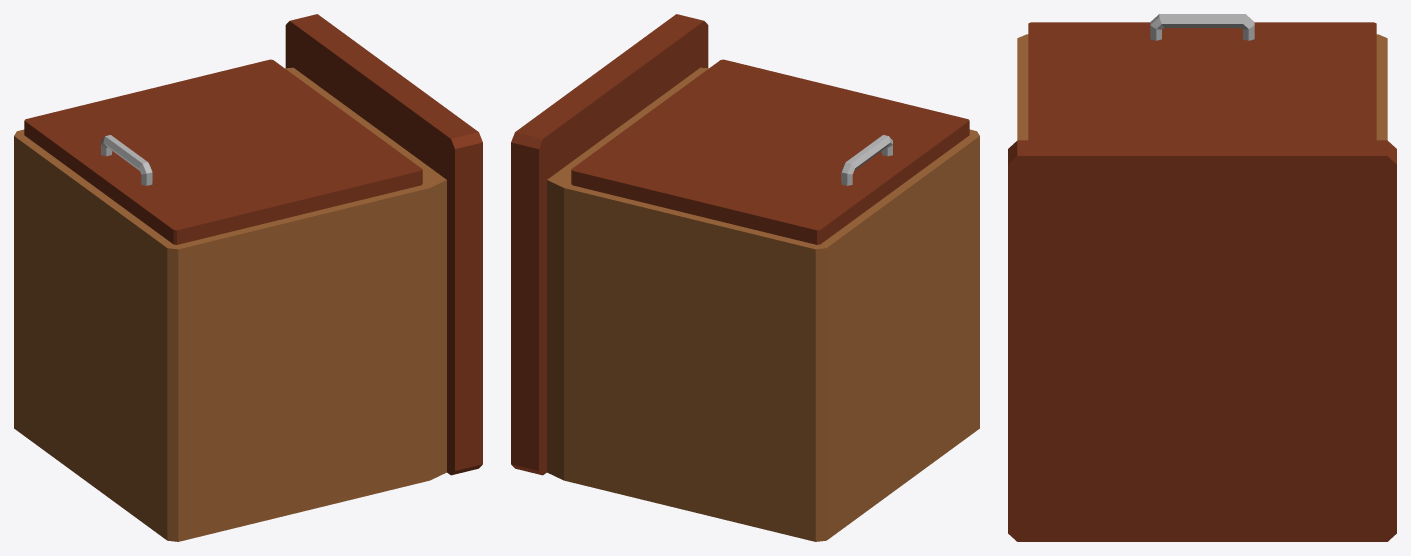
The model's file is Container_Counter.fbx.
3 views of the same model, side by side, from view 1: azimuth 30°, elevation 25°; view 2: azimuth 150°, elevation 25°; view 3: azimuth 270°, elevation 25° (orthographic). The views are drawn at different scales.
Parts seen in each view (by area): view 1: Counter_Base, Lid, Counter_Back, Handle; view 2: Counter_Base, Lid, Counter_Back, Handle; view 3: Counter_Back, Lid, Counter_Base, Handle.
Part boxes in pixels (box(x1,y1,x2,y2)): Counter_Base: box(14, 67, 446, 541); Lid: box(24, 59, 422, 244); Counter_Back: box(285, 14, 482, 475); Handle: box(101, 135, 152, 185); Counter_Base: box(547, 67, 979, 541); Lid: box(571, 59, 969, 244); Counter_Back: box(511, 14, 708, 475); Handle: box(841, 135, 892, 185); Counter_Back: box(1008, 140, 1396, 541); Lid: box(1028, 22, 1376, 140); Counter_Base: box(1017, 34, 1387, 140); Handle: box(1150, 14, 1254, 40).
Size of the model in its own units: 1.1 by 1.15 by 1.05.
